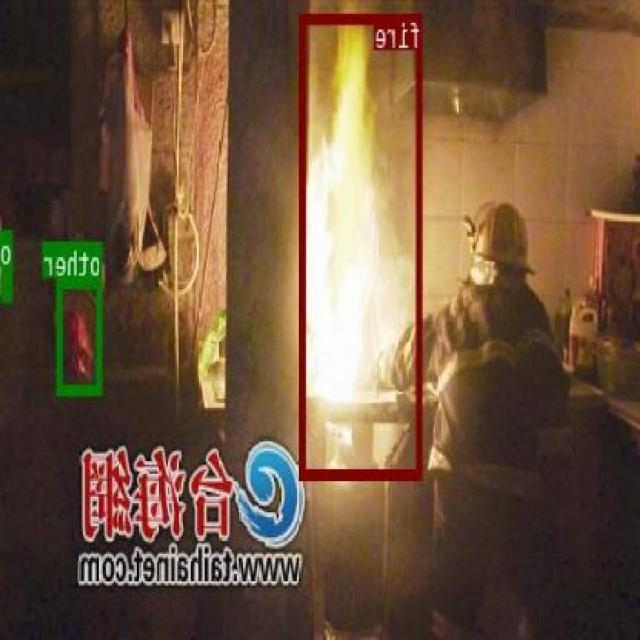Fire: (301, 12, 424, 477)
